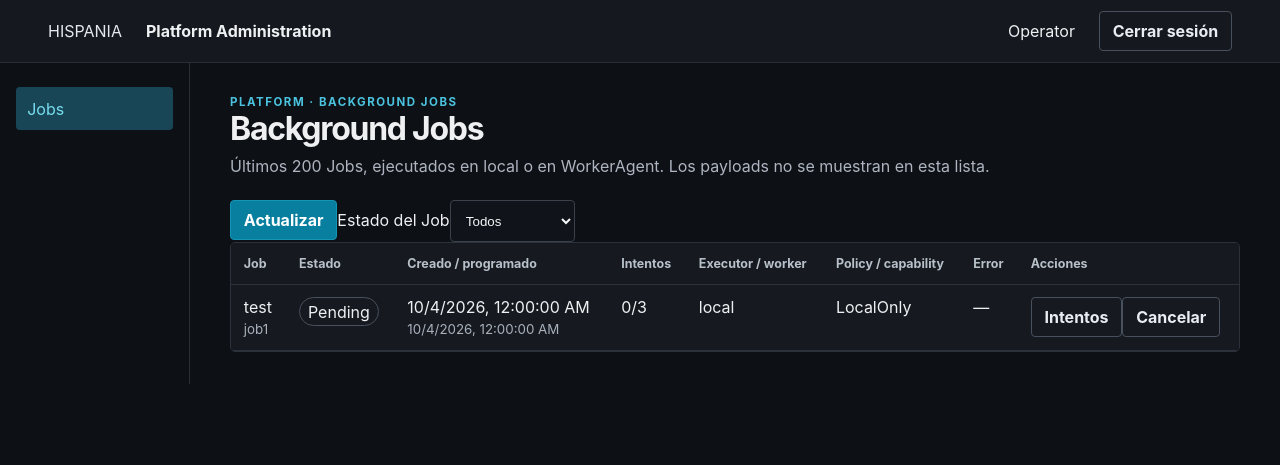
Test: separates job read from manage (true) and keeps conflict errors visible
This screenshot has width=1280, height=465.
Expected: the text "test" is shown, [244,298,272,318]
Click the button "Cancelar": point(1171, 318) [1122,298,1220,338]
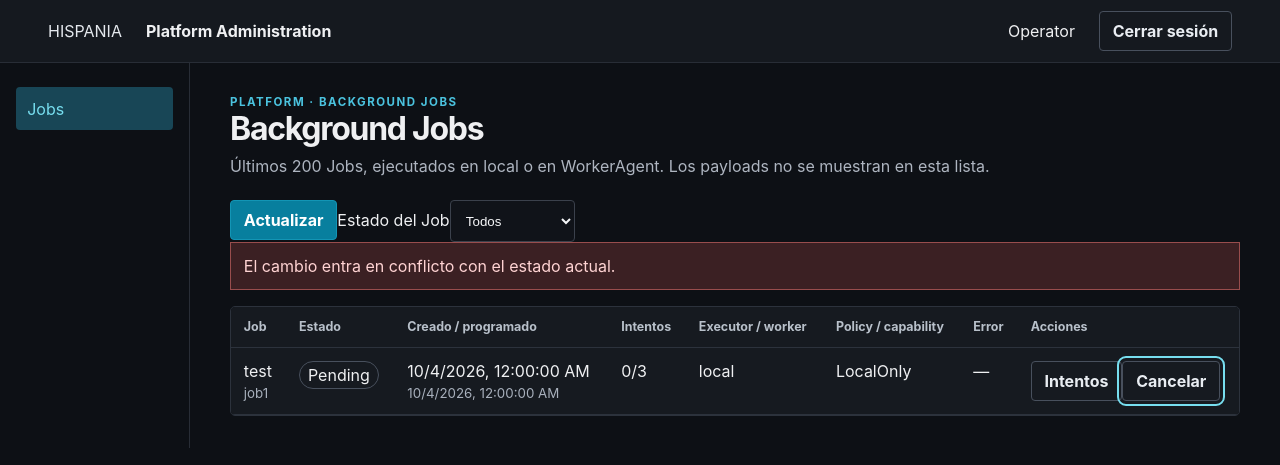
Expected: the message shows "conflicto", [244,256,616,276]
